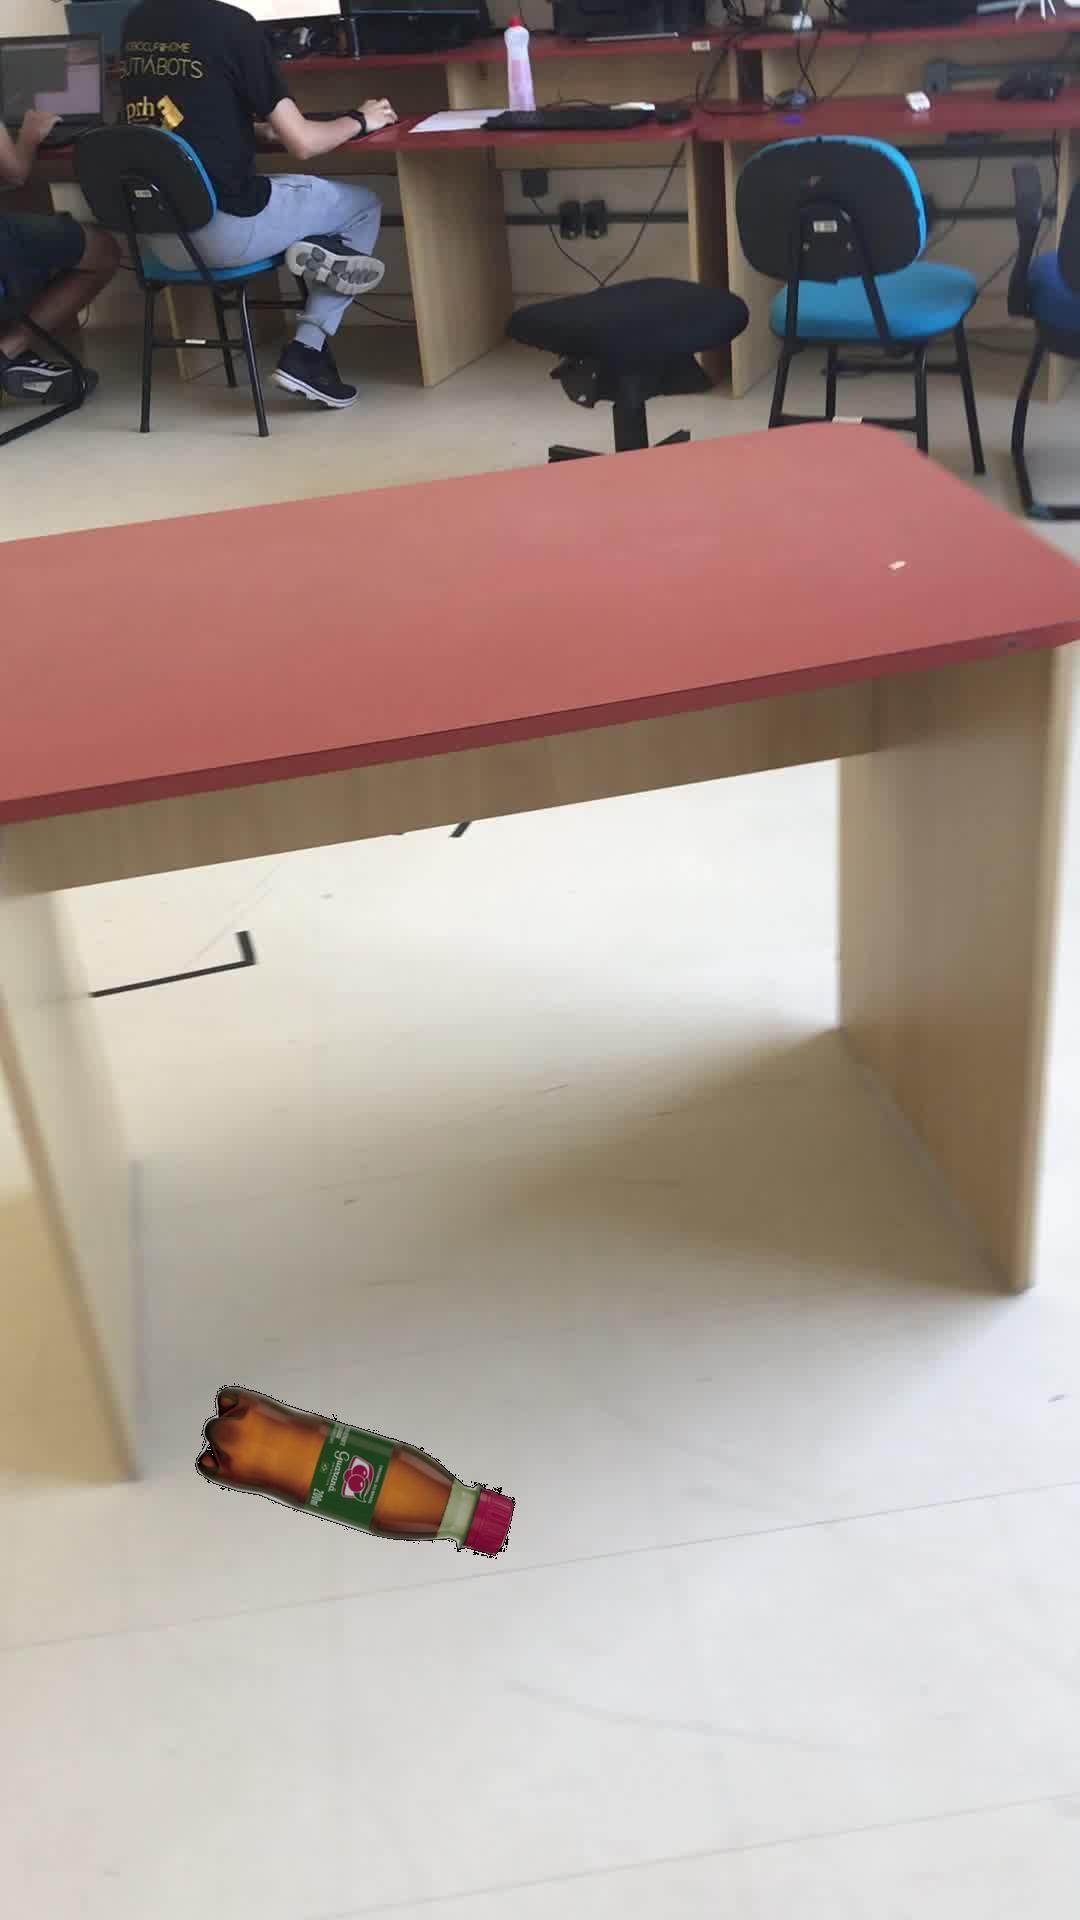guarana: (194, 1385, 513, 1556)
